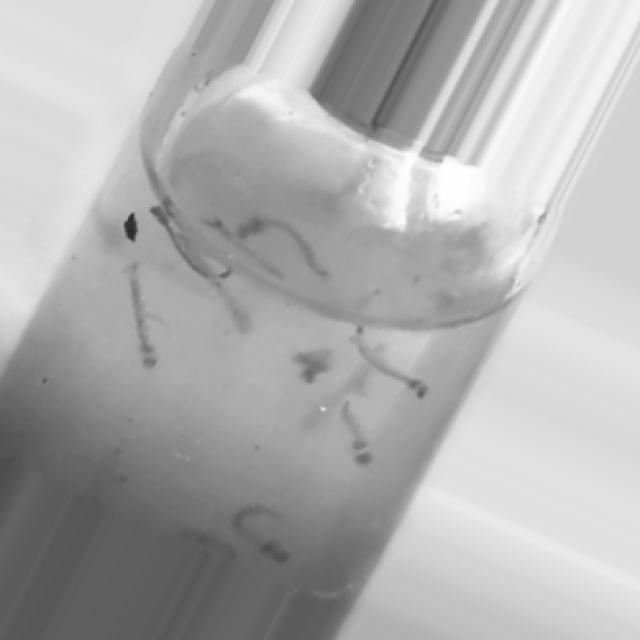larvas: (237, 202, 344, 288), (149, 207, 239, 289), (349, 328, 440, 409), (202, 210, 287, 280), (121, 269, 167, 369), (302, 376, 372, 428), (238, 500, 288, 565), (332, 405, 382, 469), (220, 288, 254, 333), (296, 344, 331, 378)
